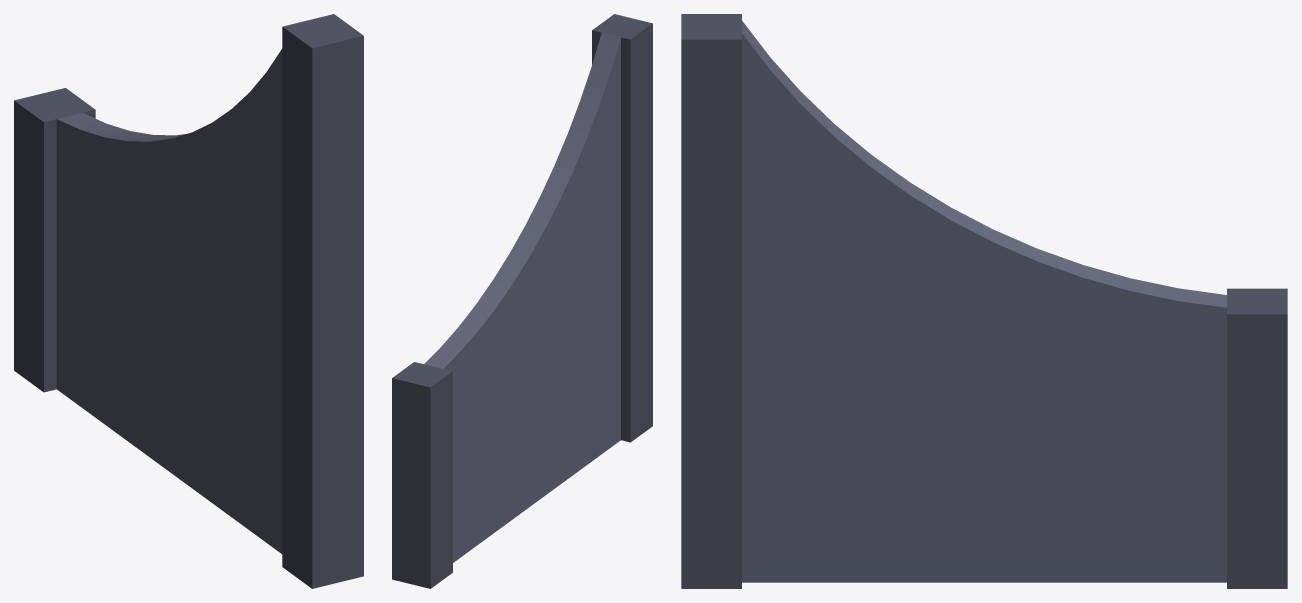
File: wall-wood-slope.glb
The picture shows the model from 3 angles, left to right: view 1: azimuth 30°, elevation 25°; view 2: azimuth 150°, elevation 25°; view 3: azimuth 270°, elevation 25°; orthographic projection. The views are drawn at different scales.
Parts seen in each view (by area): view 1: wall-wood-slope; view 2: wall-wood-slope; view 3: wall-wood-slope.
Boxes of the visible parts, box(x1,y1,x2,y2) form: wall-wood-slope: box(14, 14, 363, 588); wall-wood-slope: box(392, 14, 652, 588); wall-wood-slope: box(681, 14, 1287, 588).
Size of the model in its own units: 0.1 by 1 by 1.
1 material, 1 textured.
